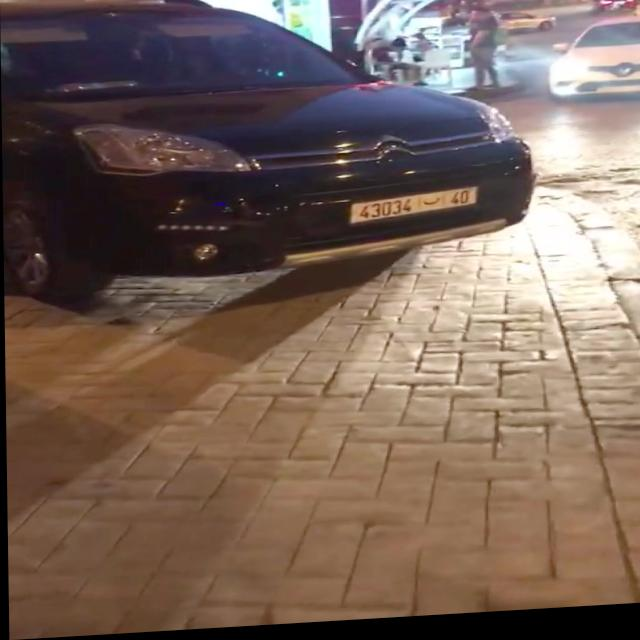License-Plate: (349, 194, 477, 227)
